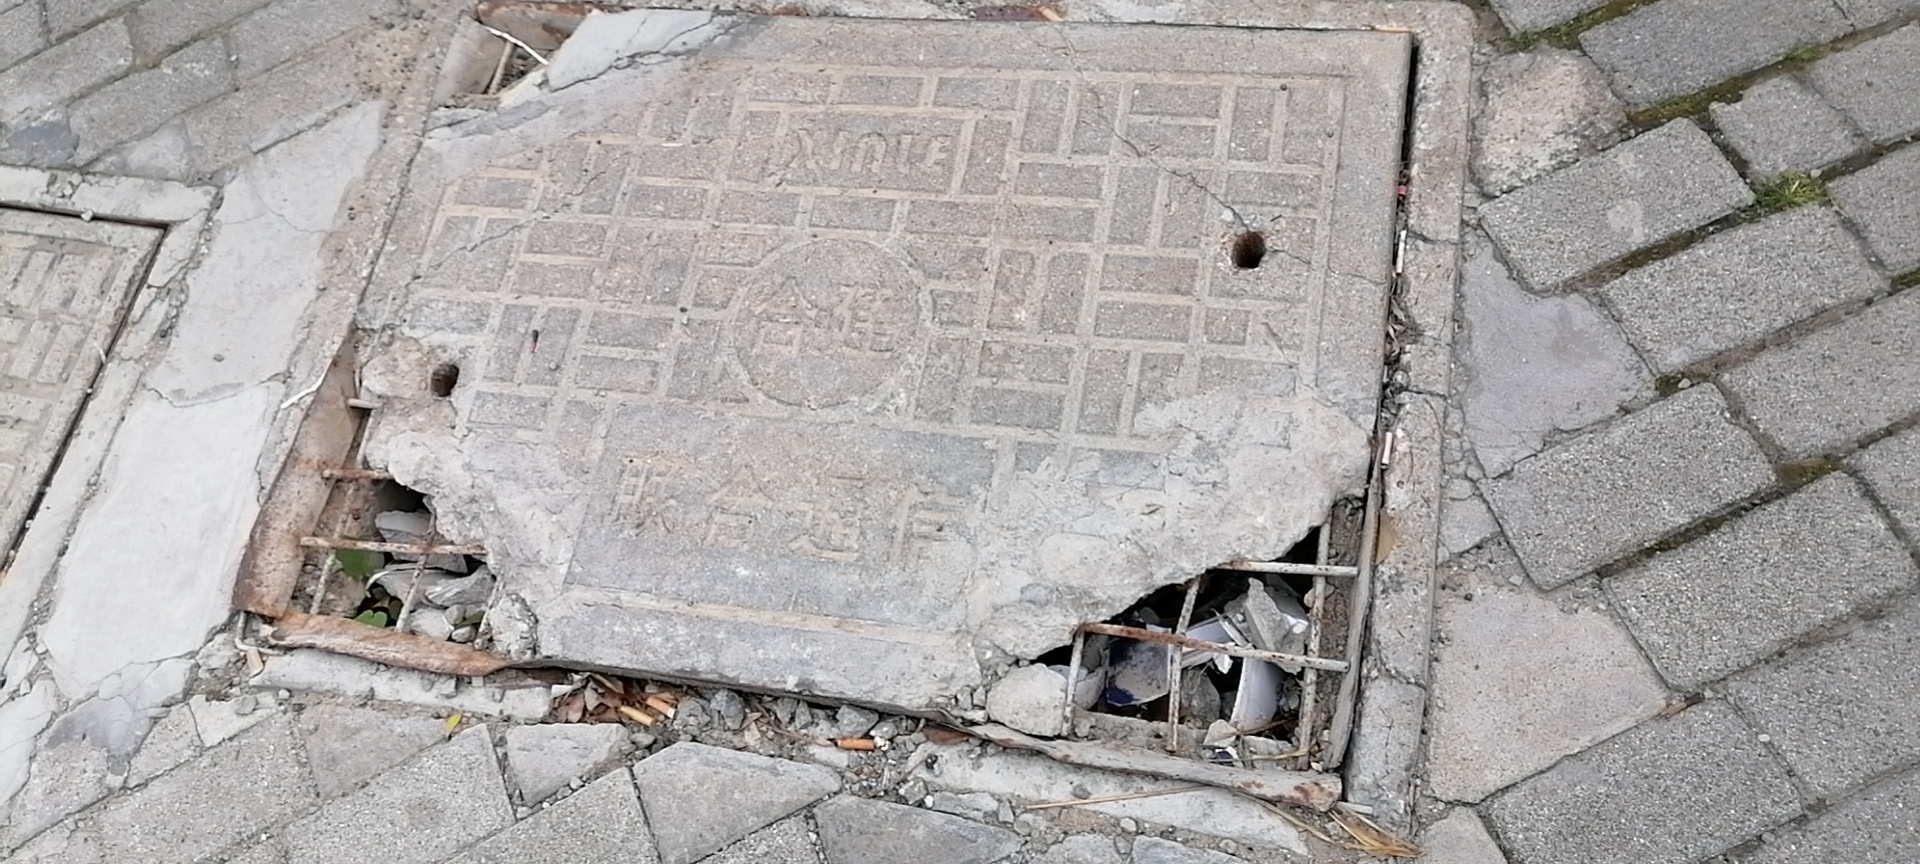well: (103, 4, 1467, 854)
